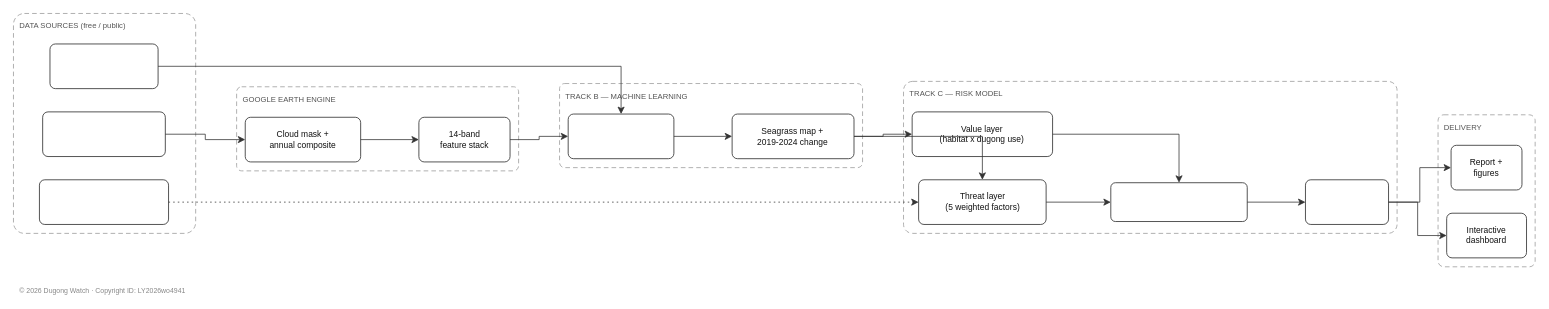
The diagram is 1549 pixels wide and 309 high, and some of its shapes have lost their labels. Each missing label, with the centre of its shape:
"105 ranked hotspots" belongs at (x=1347, y=201).
"EAD habitat survey polygons" belongs at (x=103, y=66).
"Landsat 8/9 surface temperature" belongs at (x=104, y=201).
"Random Forest classifier" belongs at (x=620, y=136).
"Risk = Value x Threat" belongs at (x=1178, y=202).
"Sentinel-2 surface reflectance" belongs at (x=103, y=134).
